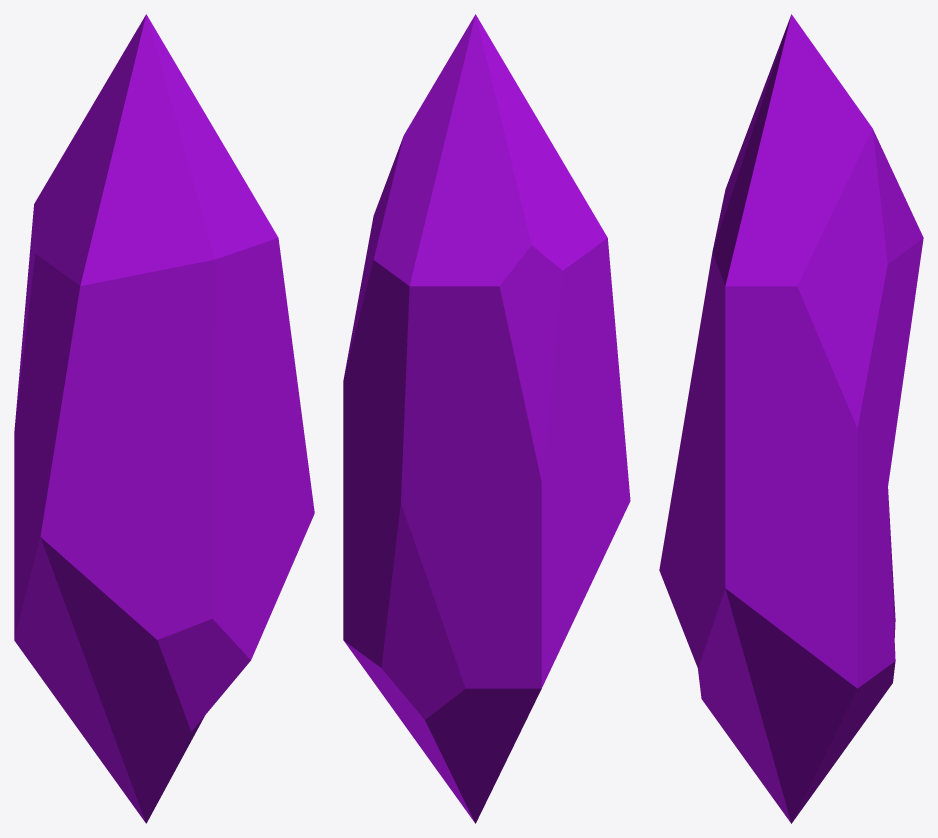
File: crystal.fbx
3 renders of one model, left to right at view 1: azimuth 30°, elevation 25°; view 2: azimuth 150°, elevation 25°; view 3: azimuth 270°, elevation 25°, orthographic.
Visible parts, largest first — view 1: Cylinder; view 2: Cylinder; view 3: Cylinder.
Part boxes in pixels (x1=…): Cylinder: x1=14, y1=14, x2=314, y2=823; Cylinder: x1=343, y1=14, x2=630, y2=823; Cylinder: x1=659, y1=14, x2=923, y2=823.
Size of the model in its own units: 232 by 676 by 200.
